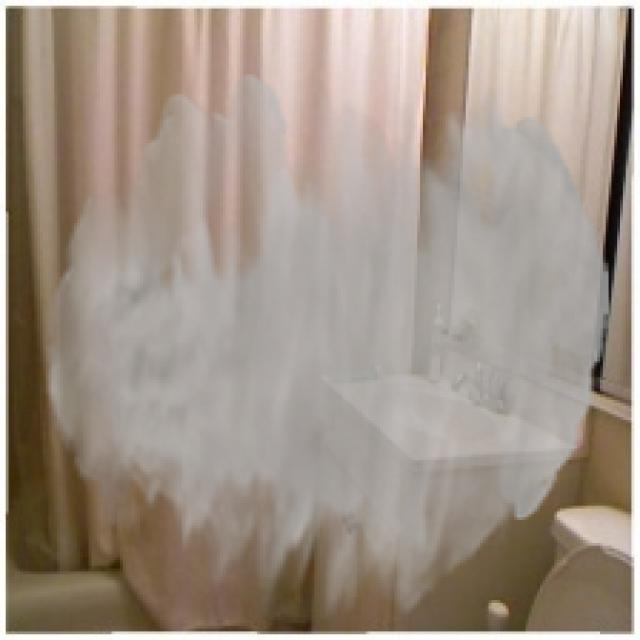smoke: (46, 74, 608, 620)
